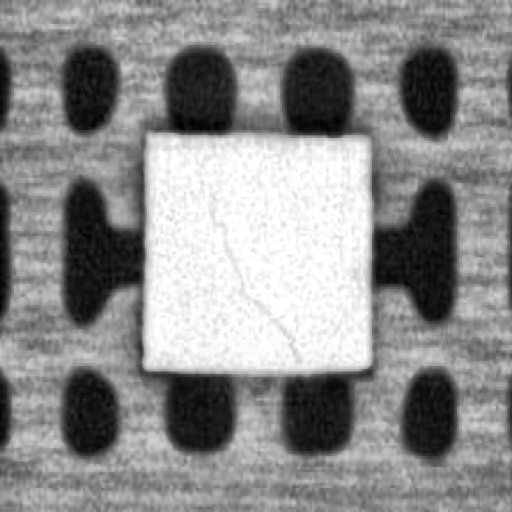DIE_CRACK: (210, 210, 298, 358)
